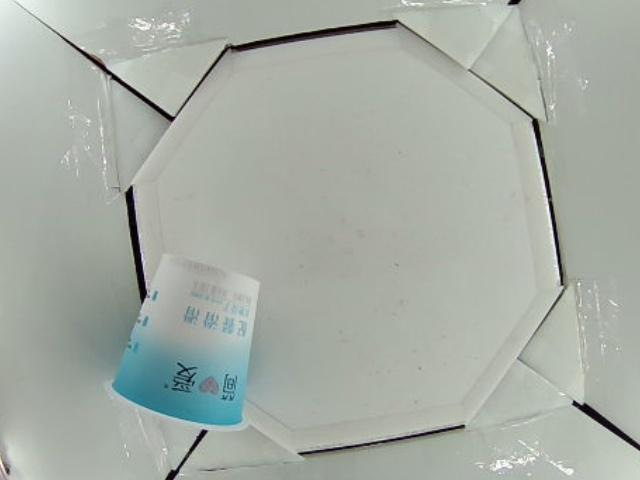Cup: (106, 255, 262, 435)
